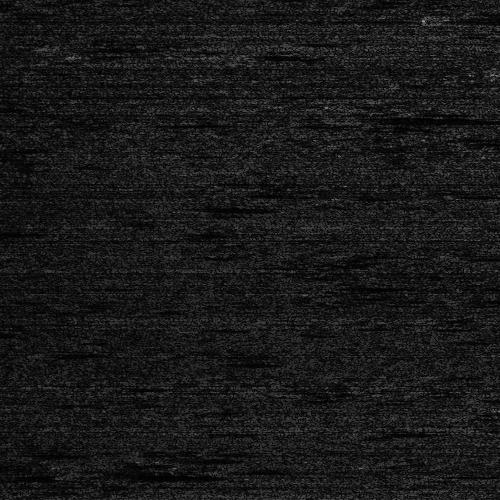rock: (409, 10, 492, 21), (67, 469, 130, 478), (332, 113, 395, 120), (143, 203, 206, 210), (105, 121, 168, 126)
shadow: (99, 469, 209, 478), (364, 113, 500, 120), (175, 203, 256, 210), (451, 10, 500, 21), (137, 121, 200, 126)
